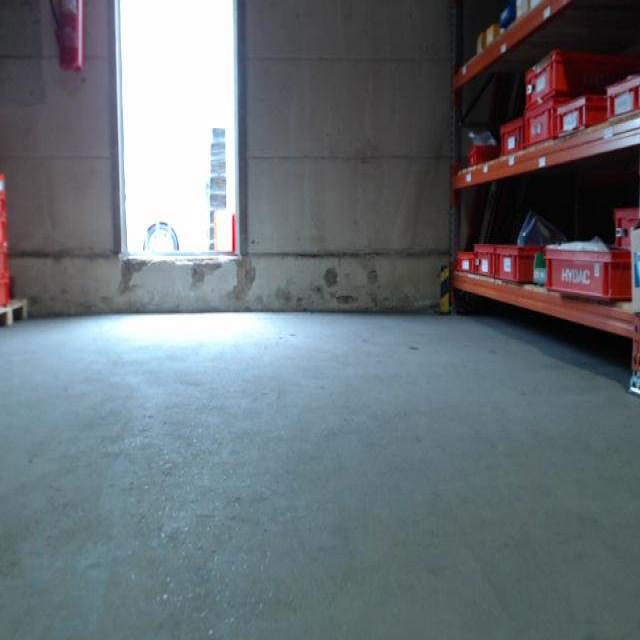pallet: (0, 298, 30, 332)
small_load_carrier: (522, 56, 637, 111), (540, 242, 632, 305), (523, 99, 573, 153), (492, 238, 542, 285), (561, 93, 606, 141), (605, 76, 639, 130), (609, 201, 639, 248), (498, 116, 525, 163), (468, 143, 500, 172), (471, 241, 494, 281), (457, 247, 473, 276), (1, 280, 13, 307), (1, 252, 10, 282), (0, 202, 8, 227), (0, 229, 9, 249), (3, 172, 7, 201)
